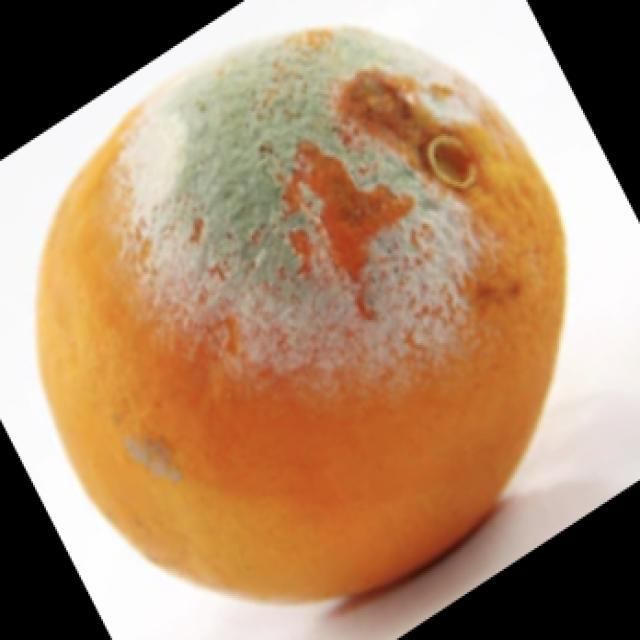sedikit-busuk: (37, 28, 565, 599), (38, 29, 564, 598)
